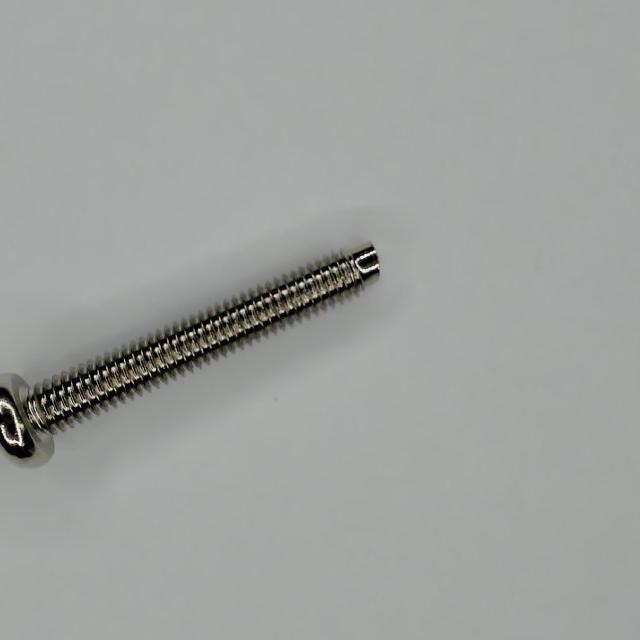Screw: (0, 246, 380, 466)
